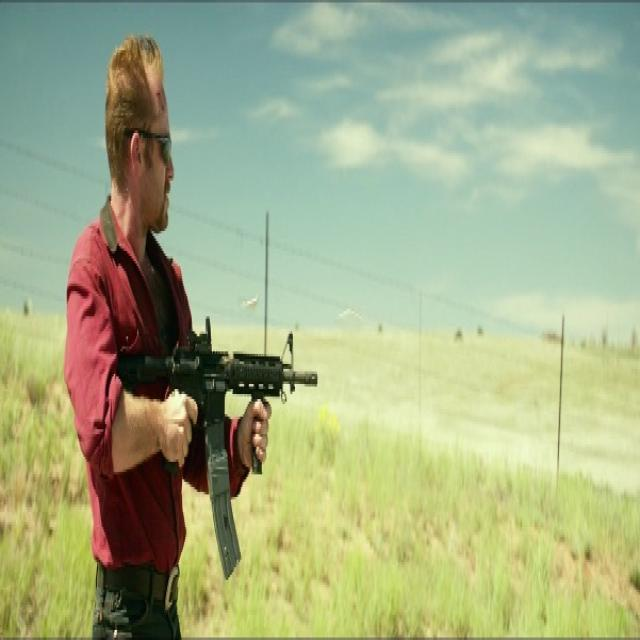rifle: (117, 310, 322, 592)
